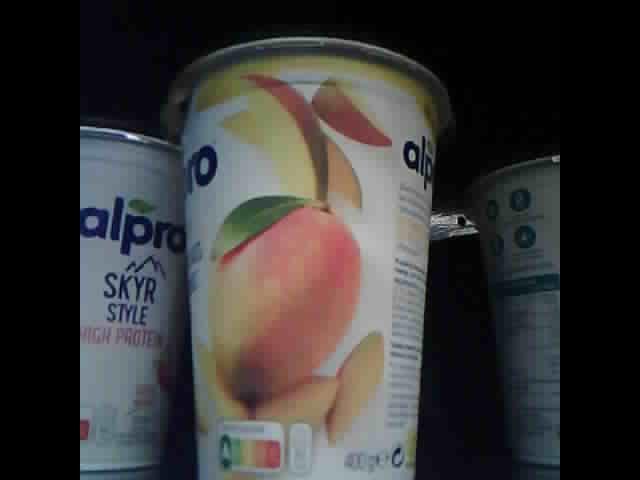alpro: (161, 33, 452, 480), (80, 109, 193, 470), (468, 153, 559, 468)
